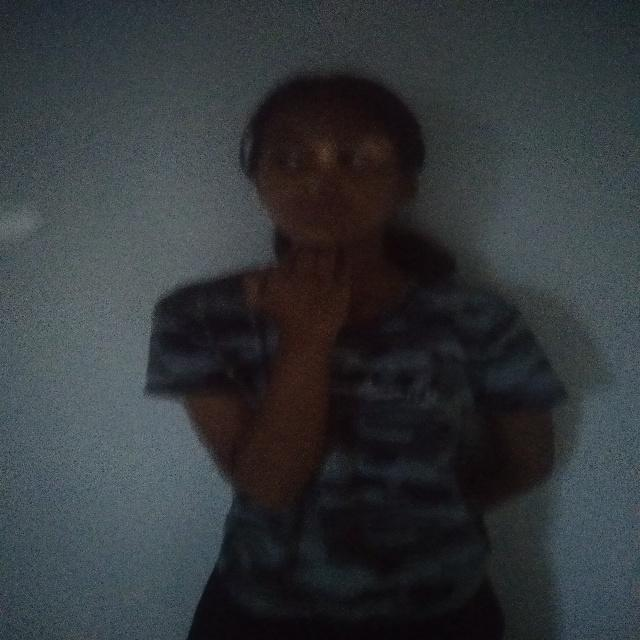Chin Flick: (218, 72, 436, 359)
